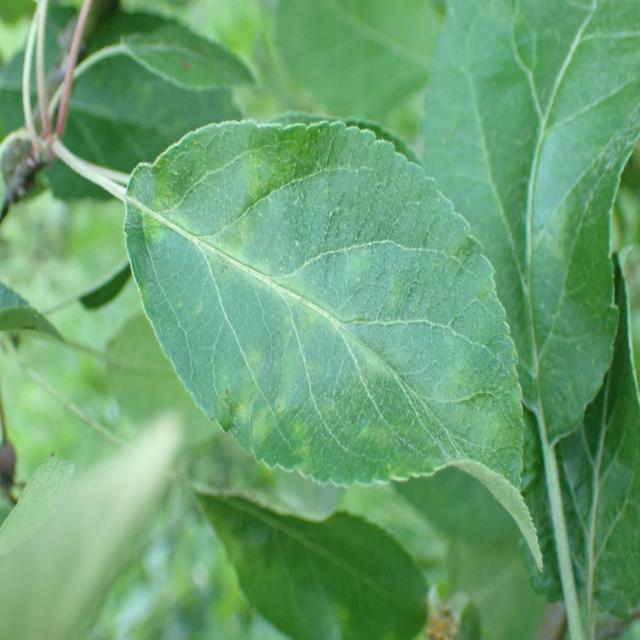scab: (132, 142, 518, 489)
